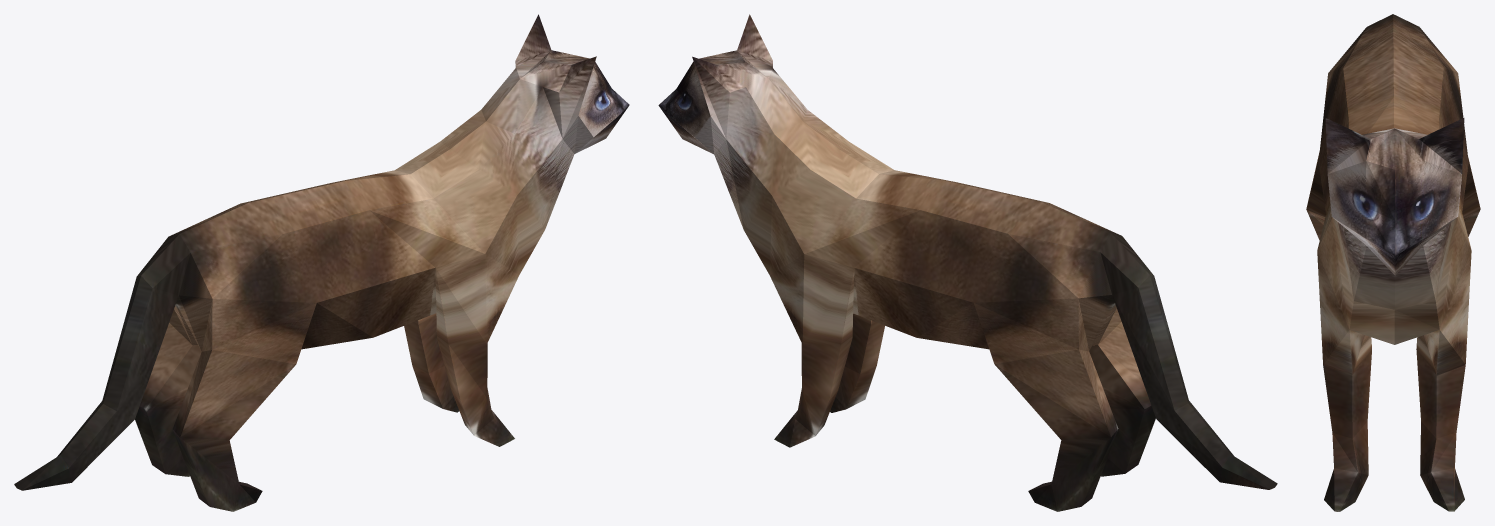
The model's file is cat_siamese.glb.
3 renders of one model, left to right at view 1: azimuth 30°, elevation 25°; view 2: azimuth 150°, elevation 25°; view 3: azimuth 270°, elevation 25°, orthographic. The views are drawn at different scales.
Visible parts, largest first — view 1: ORIGAMI_Chat; view 2: ORIGAMI_Chat; view 3: ORIGAMI_Chat.
Boxes of the visible parts, <box> form: ORIGAMI_Chat: <box>14,14,629,511</box>; ORIGAMI_Chat: <box>658,14,1277,511</box>; ORIGAMI_Chat: <box>1306,14,1480,511</box>.
Bounding box in the file's own units: 8.55 × 4.87 × 1.75.
1 material, 1 textured.
